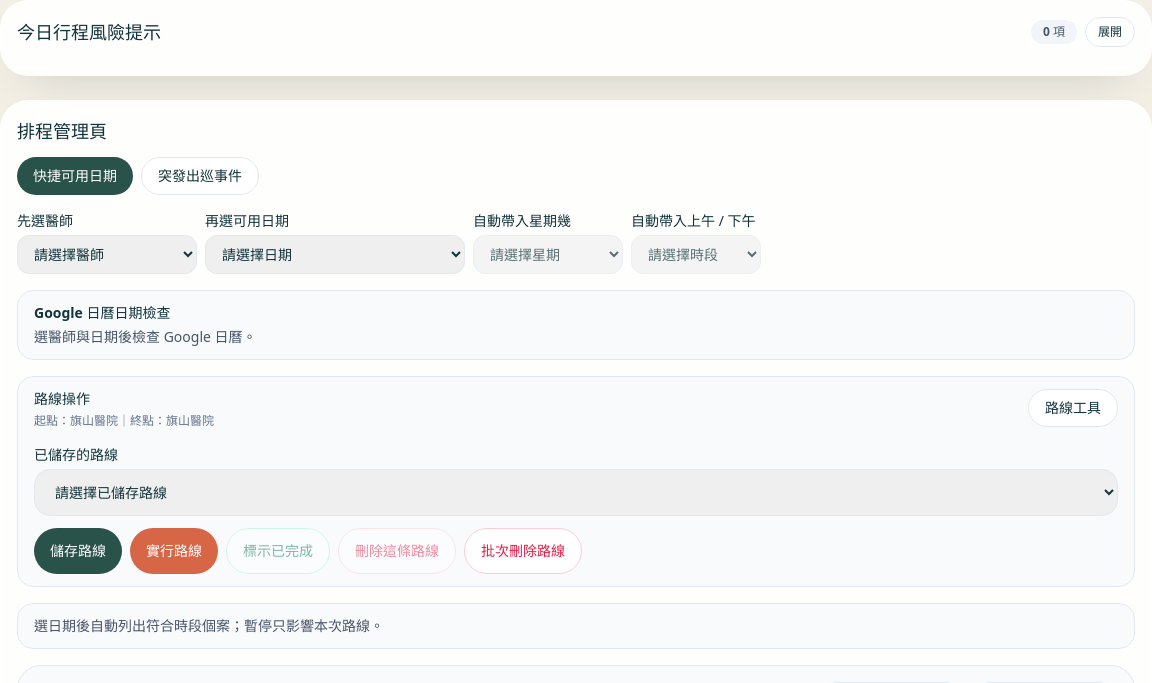
Test: AdminPages › AdminSchedulesPage 選醫師後只顯示該醫師可用日期，並在選日期後帶入星期與時段
Select "蕭坤元醫師" in the dropdown named "篩選醫師" at {"x": 107, "y": 254}, box [17, 235, 197, 274]
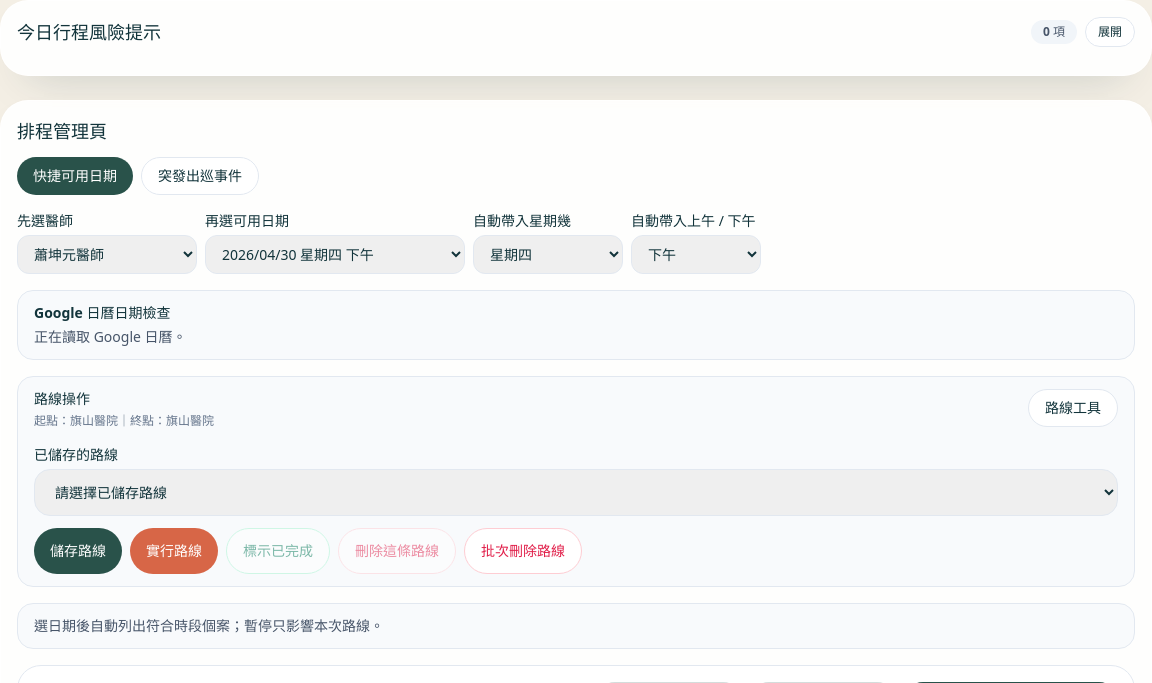
Now the dropdown named "路線日期" shows "2026/04/30 星期四 下午"
Now the dropdown named "篩選星期" shows "星期四", box [473, 235, 623, 274]
Now the dropdown named "篩選時段" shows "下午", box [631, 235, 761, 274]
Select "2026/05/06 星期三 上午" in the dropdown named "路線日期" at {"x": 335, "y": 254}, box [205, 235, 465, 274]
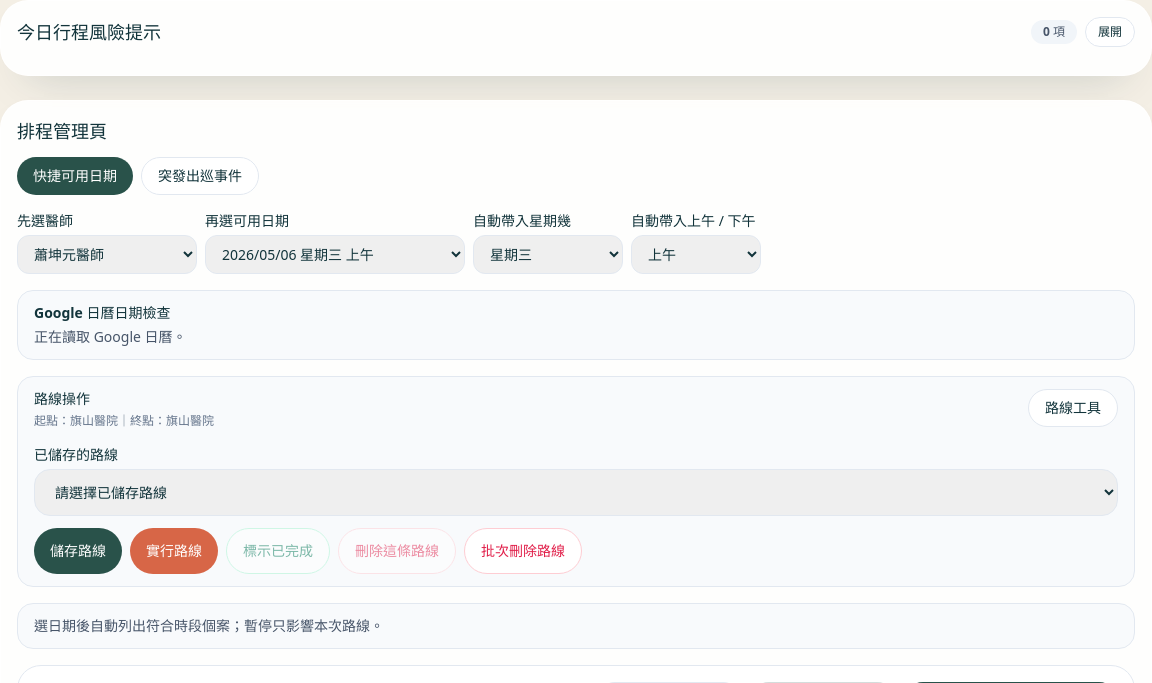
Expected: the text "自動帶入上午 / 下午" is shown, [631, 211, 761, 231]
Now the dropdown named "篩選星期" shows "星期三", box [473, 235, 623, 274]
Now the dropdown named "篩選時段" shows "上午", box [631, 235, 761, 274]
